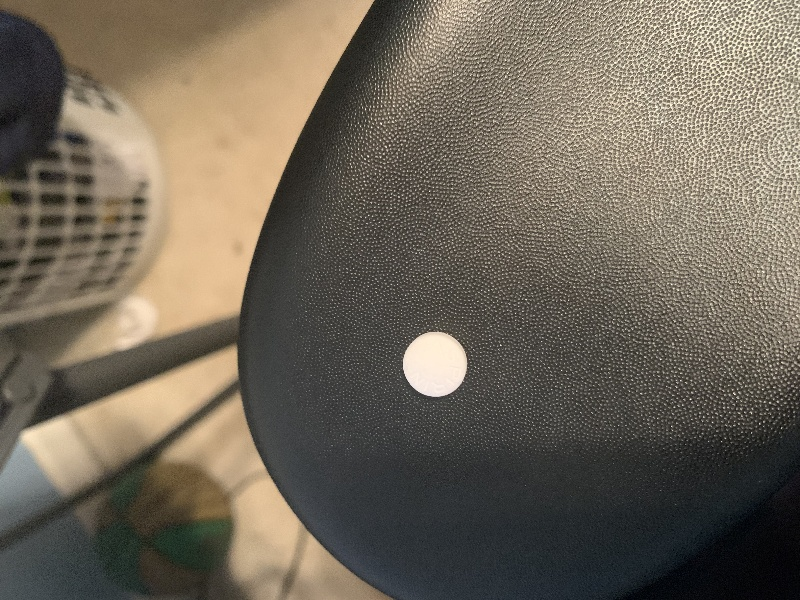Aspirin: (399, 326, 475, 403)
